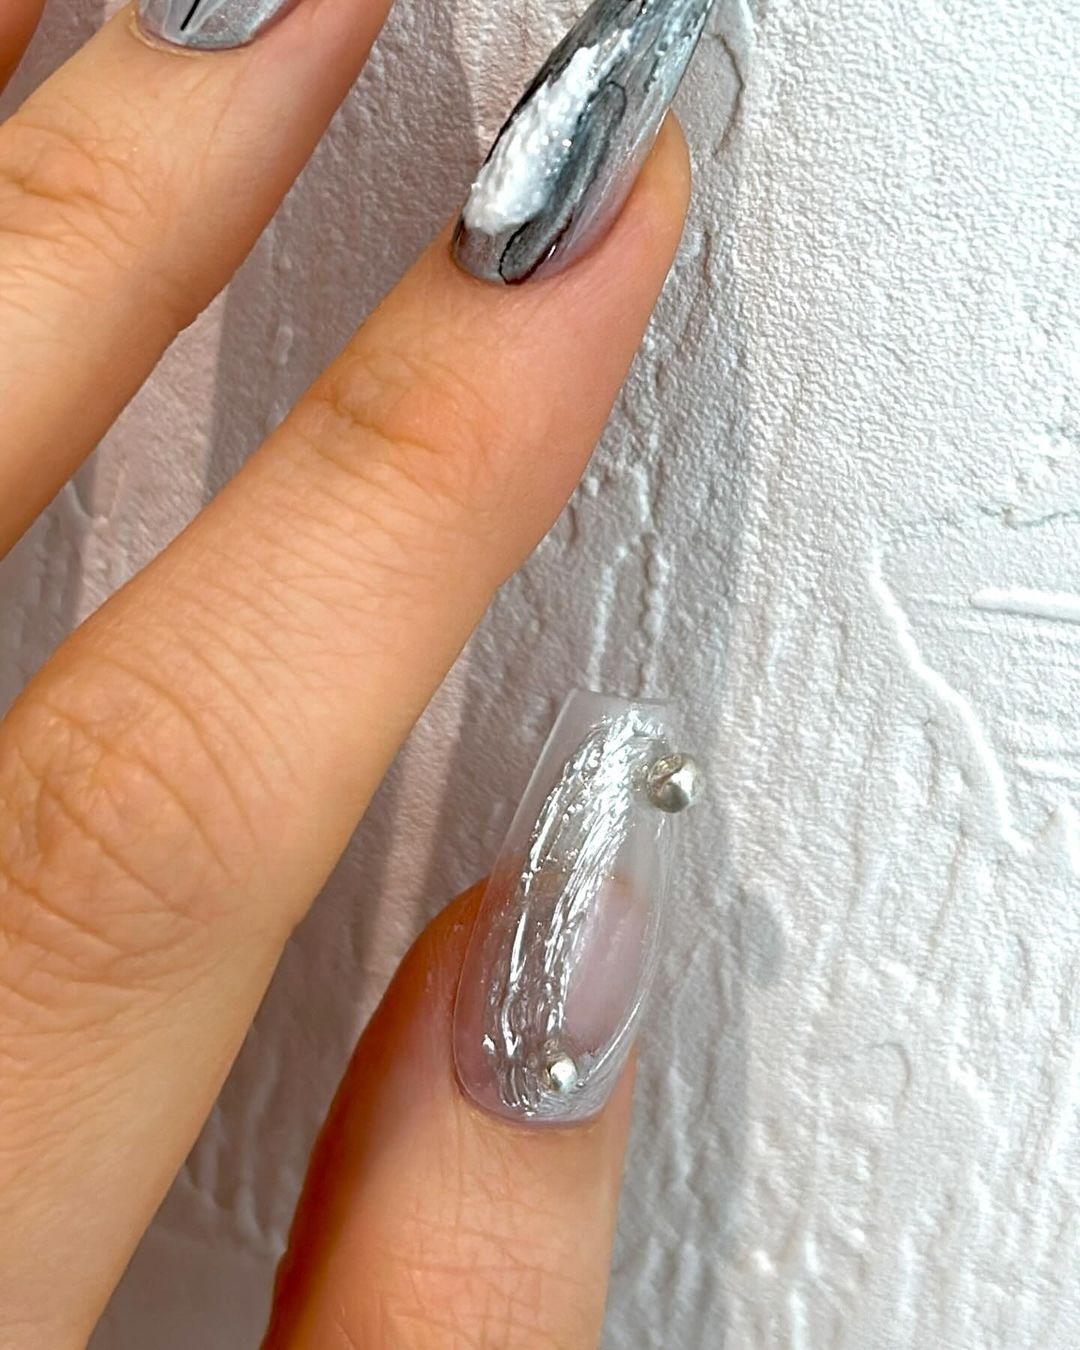nail: (448, 686, 701, 1127), (448, 0, 714, 288), (131, 0, 301, 53)
